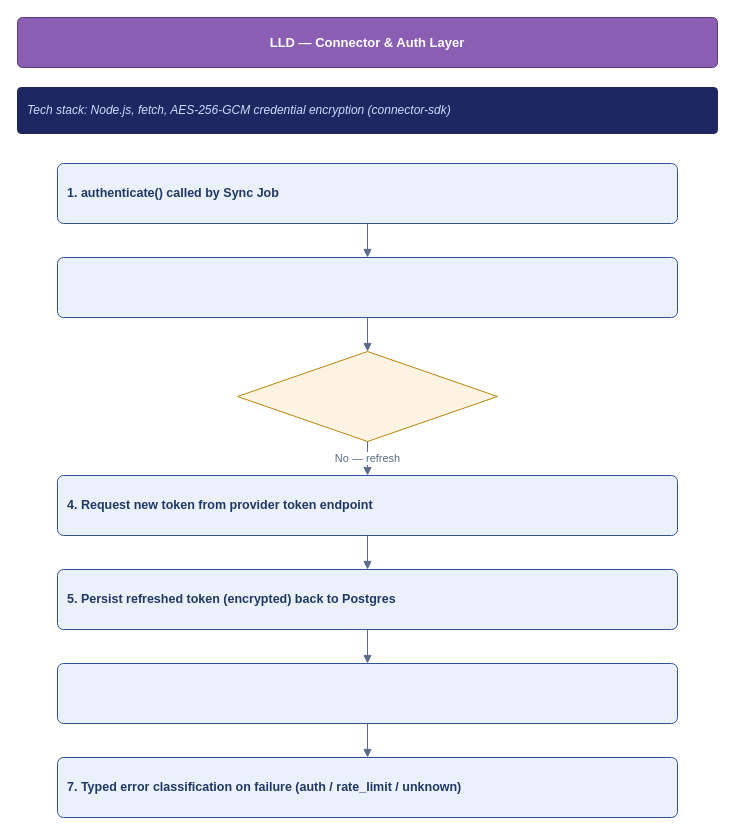
Some shapes in this 735 by 835 pixel diagram are drawn without their labels. The centre of each missing label's shape, as x and y in pixels:
"2. Load encrypted credentials from Postgres" belongs at [367,287].
"6. fetch() / write() called with valid token" belongs at [367,693].
"Token still valid?" belongs at [367,396].
